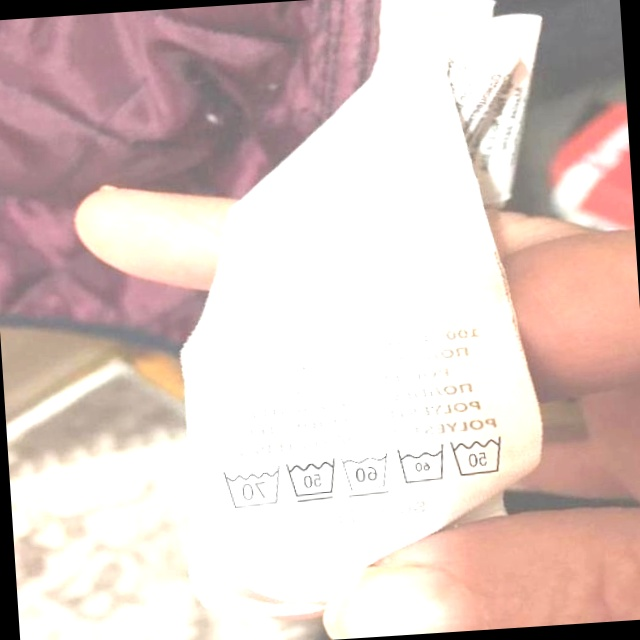50C: (446, 428, 511, 482), (282, 454, 341, 507)
60C: (337, 448, 393, 499), (392, 440, 449, 489)
70C: (216, 463, 283, 512)
